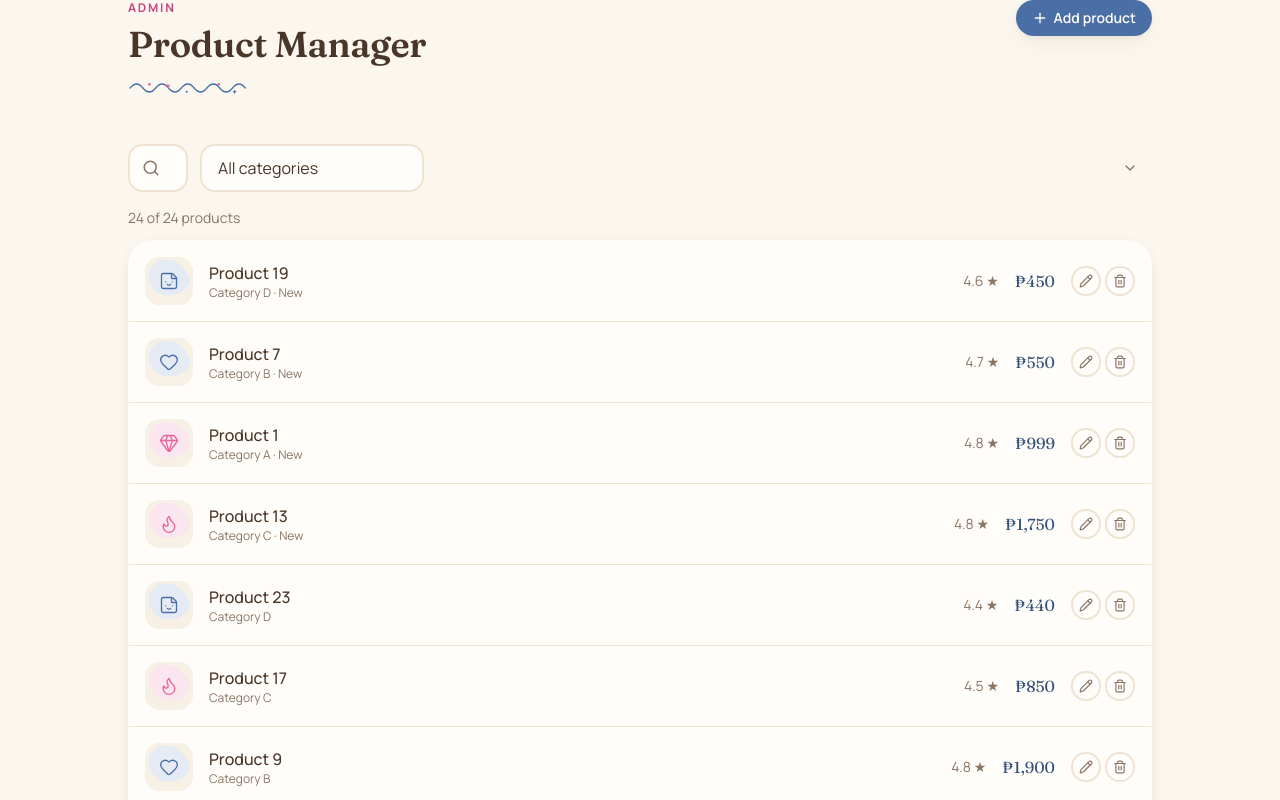
ProductManager › edits an existing product and reflects the change in the list
Click the button named "Edit Product 1" at (1086, 443), box [1071,428,1101,458]
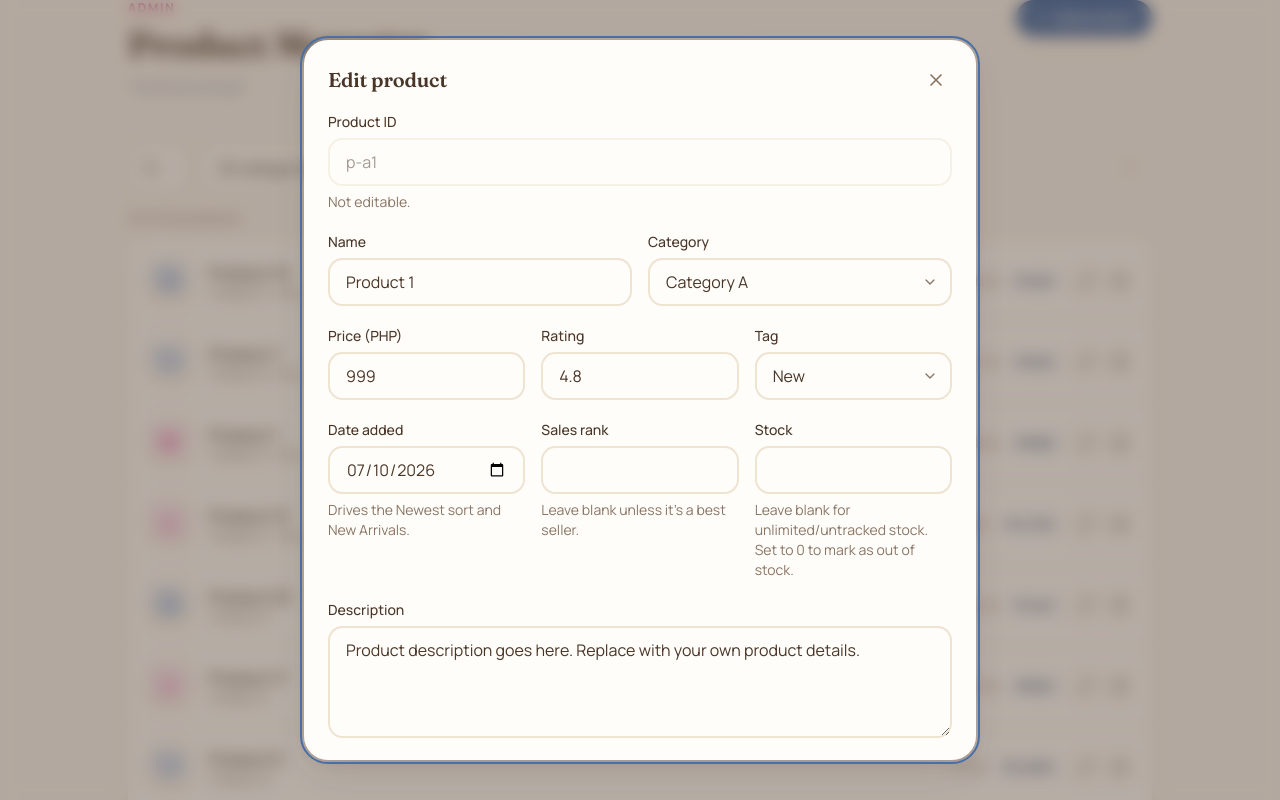
Replace the text in the field labelled "Name" with "Renamed Product" at (480, 282), box [328,258,632,306]
(page scrolled)
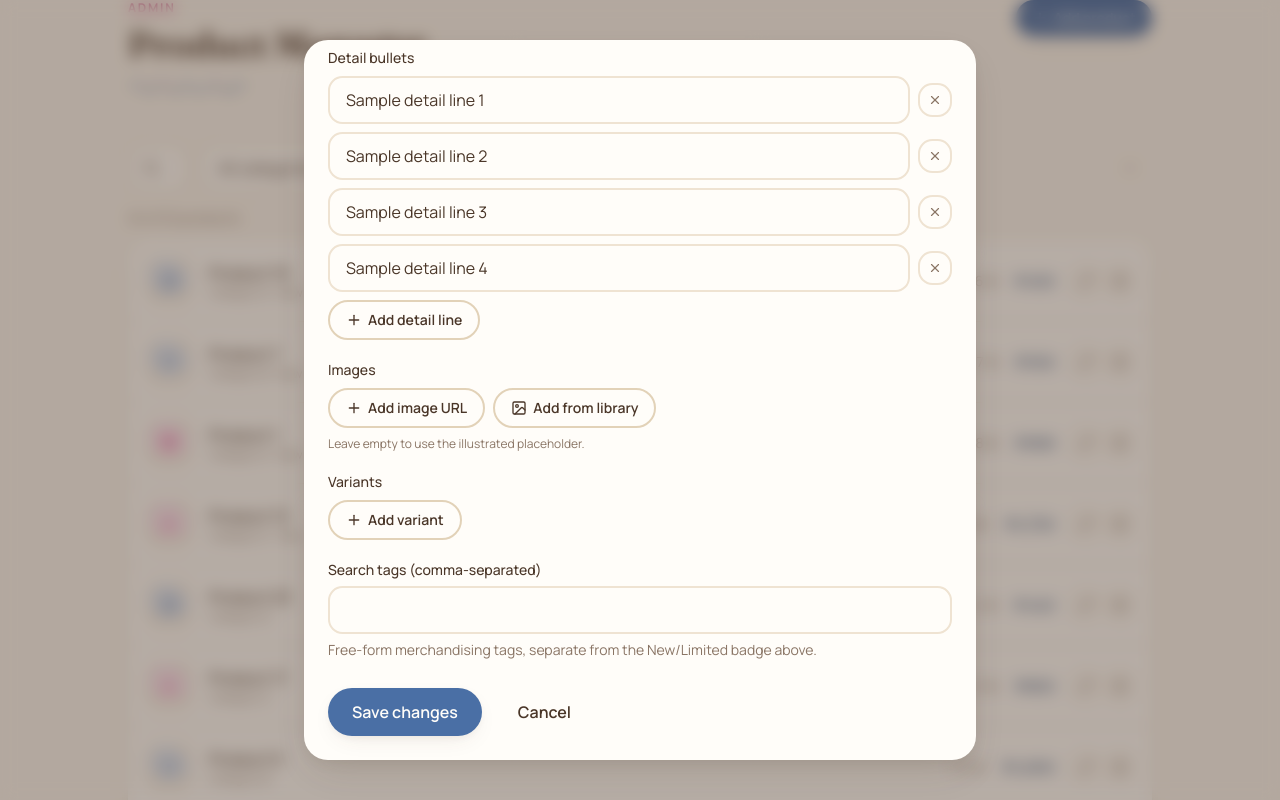
Click the button "Save changes" at (405, 712), box [328,688,482,736]
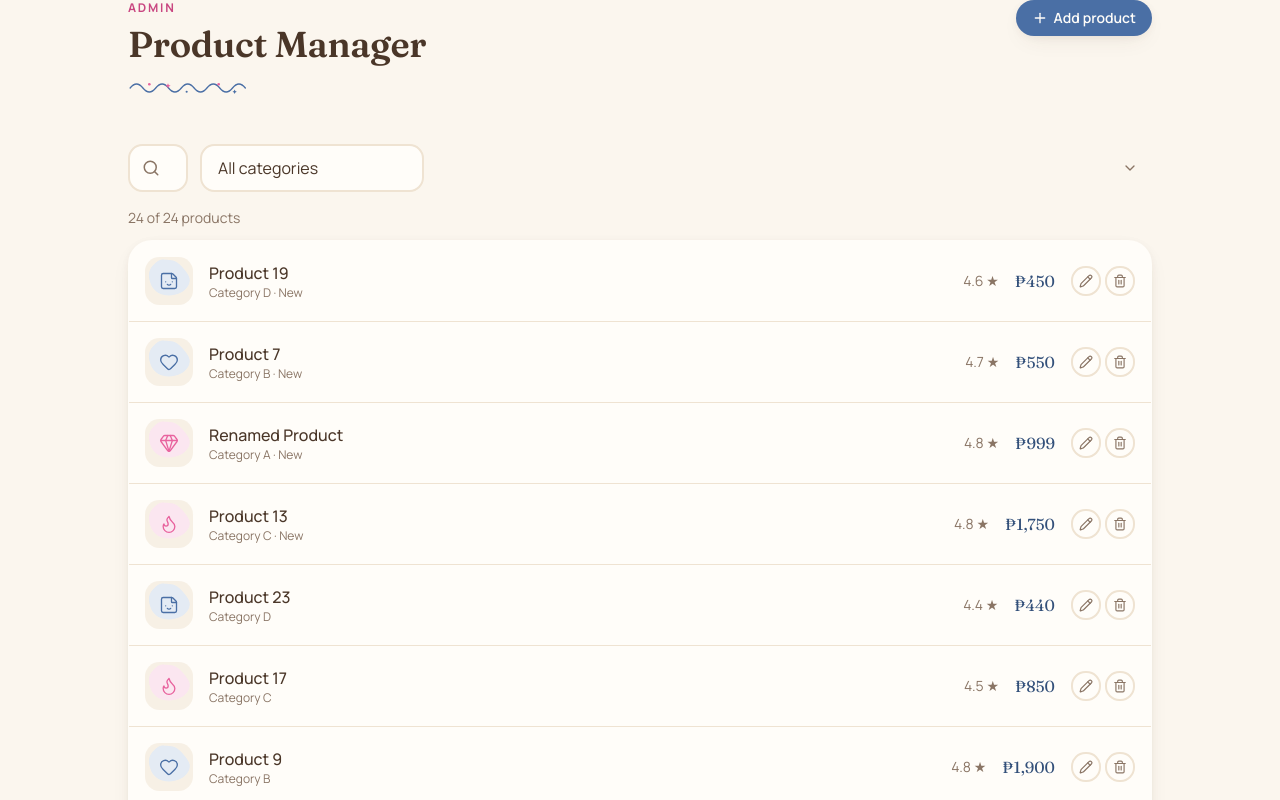
Expected: the text "Renamed Product" is shown, [209,424,343,446]
